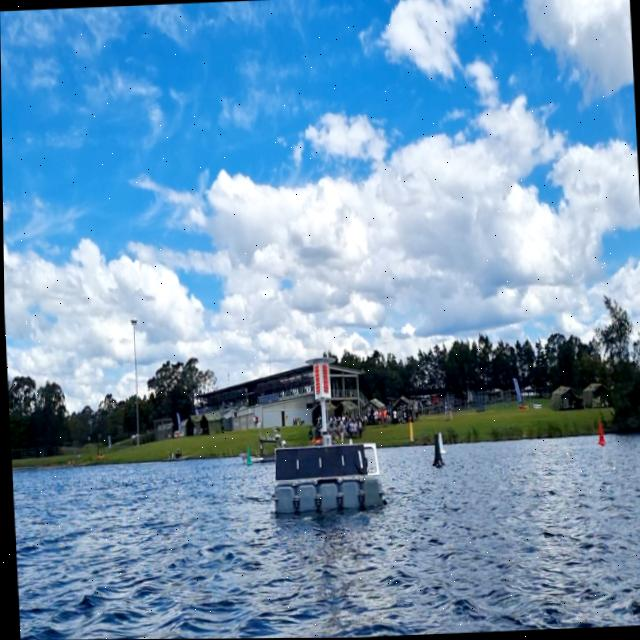led: (312, 362, 328, 396), (319, 363, 328, 397), (312, 363, 320, 395)
